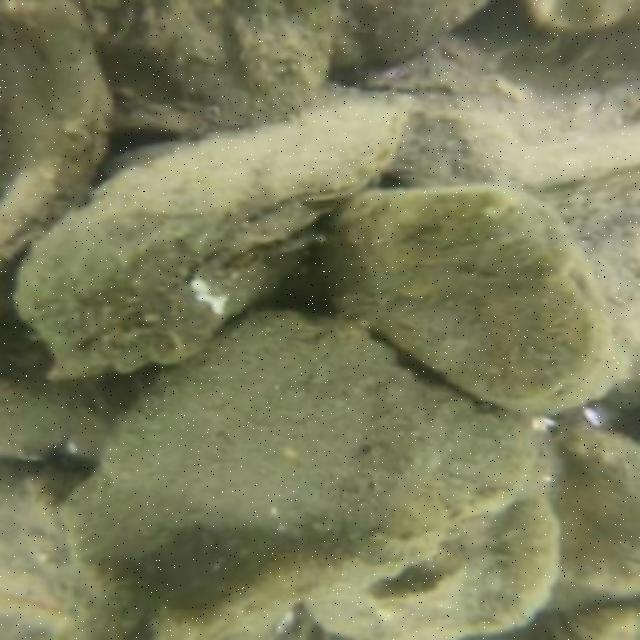Oyster-Closed: (67, 320, 541, 637), (8, 106, 417, 386), (323, 184, 599, 405), (299, 490, 556, 638), (332, 1, 498, 67)
